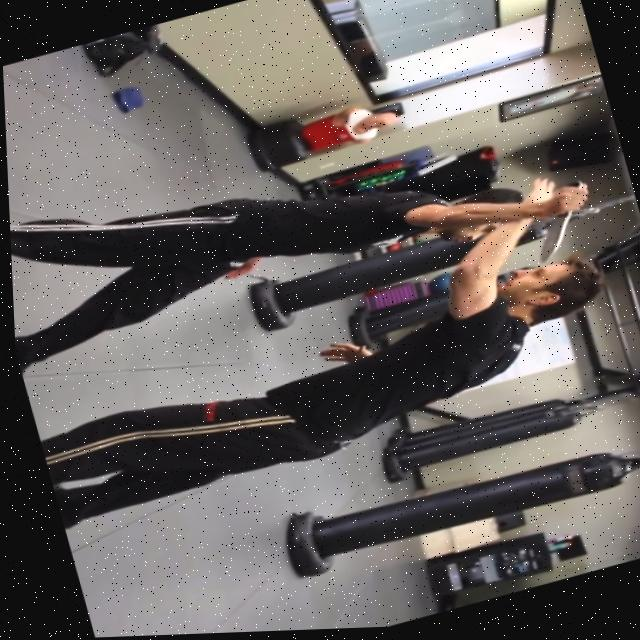knife: (518, 215, 582, 270)
